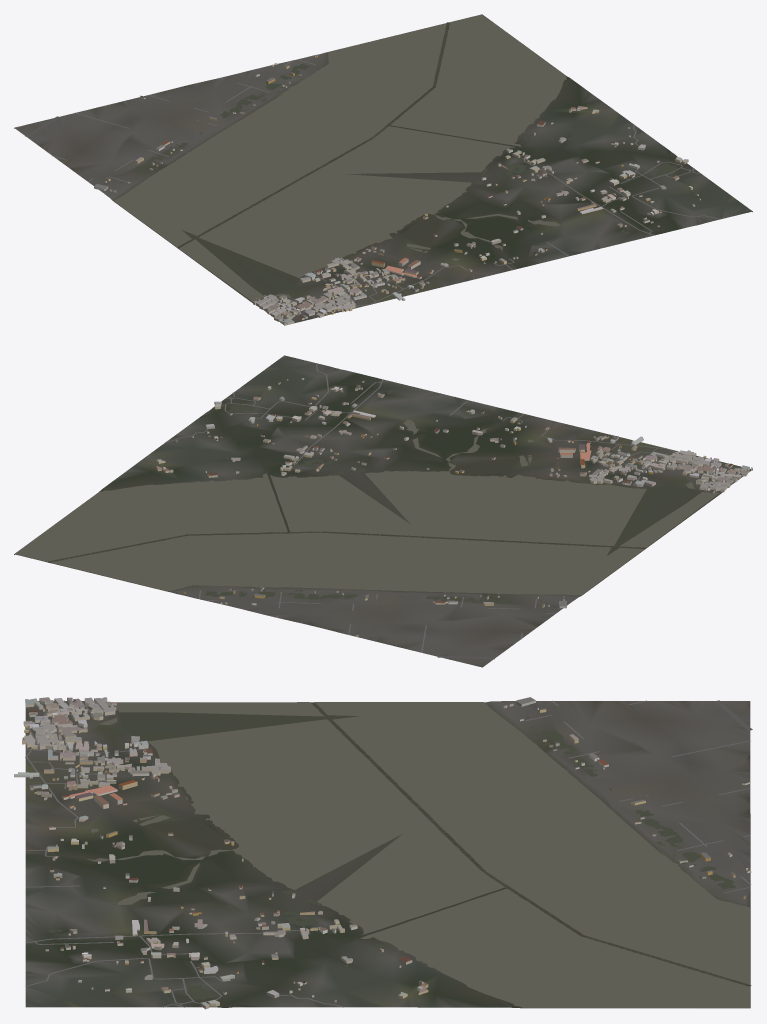
The picture shows the model from 3 angles, top to bottom: view 1: azimuth 30°, elevation 25°; view 2: azimuth 150°, elevation 25°; view 3: azimuth 270°, elevation 25°; orthographic projection. The views are drawn at different scales.
Visible parts, largest first — view 1: water, ground, buildings, roads; view 2: water, ground, buildings, roads; view 3: water, ground, buildings, roads.
Boxes of the visible parts, x1,y1,x2,y2 form: water: (114, 14, 700, 301); ground: (14, 21, 752, 325); buildings: (94, 55, 700, 325); roads: (25, 59, 720, 315); water: (15, 368, 719, 603); ground: (14, 355, 752, 667); buildings: (156, 378, 752, 636); roads: (166, 363, 738, 659); water: (26, 702, 751, 1007); ground: (25, 701, 750, 1008); buildings: (14, 697, 751, 1009); roads: (25, 700, 752, 1007).
Size of the model in its own units: 1416 by 18.21 by 1428.
